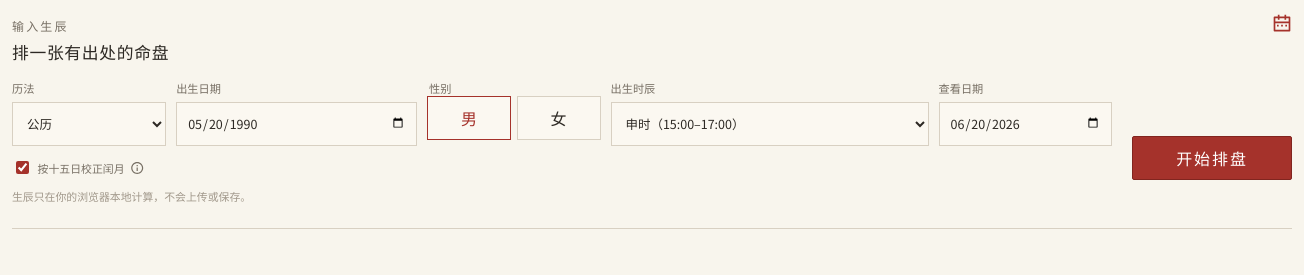
Test case: BirthForm › shows the leap-month option only for lunar input
Check: the field labelled "这是闰月" is not shown
Select "农历" in the dropdown labelled "历法": (89, 124) left=12, top=102, right=166, bottom=146
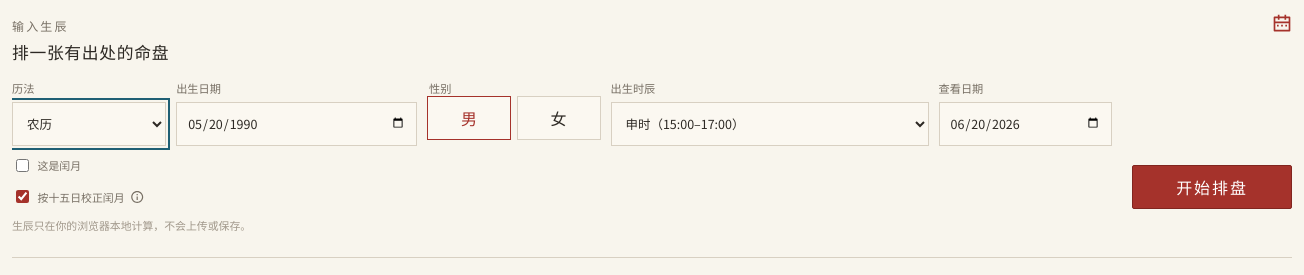
Check: the checkbox labelled "这是闰月" is shown, box left=16, top=159, right=29, bottom=172
